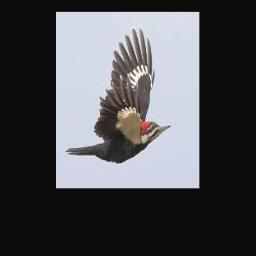Woodpecker: (66, 28, 171, 162)
